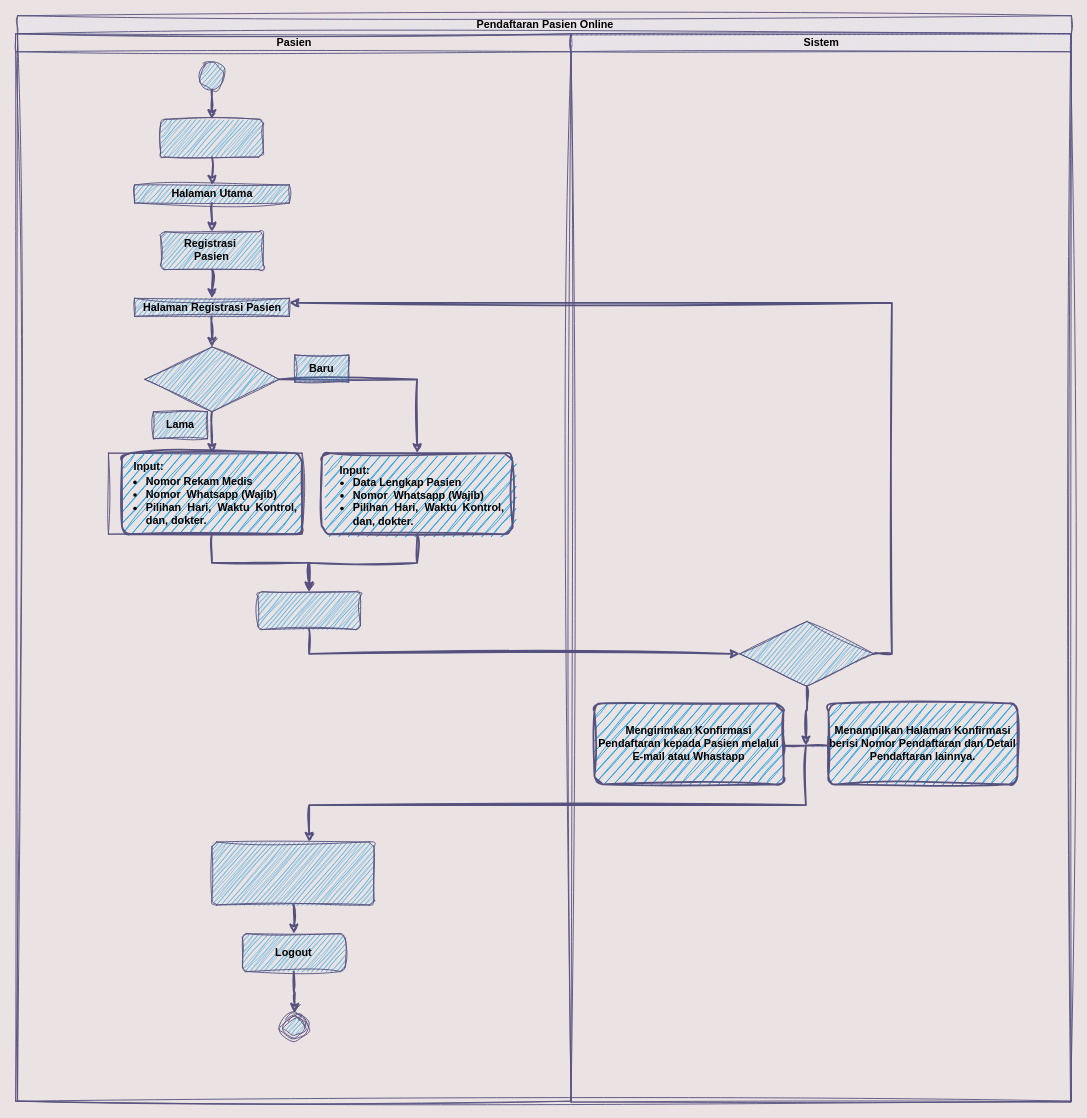
Some shapes in this 1087 by 1118 pixel diagram are drawn without their labels. Here are the shapes that lost their labels. From the top down, the centre of each, then its label:
(x=211, y=137): Login/Registrasi Akun
(x=211, y=379): Pasien Lama / Baru
(x=308, y=610): Submit Data
(x=806, y=653): Data Valid?
(x=292, y=873): Mendapatkan Konfirmasi dan Nomor Antrian
